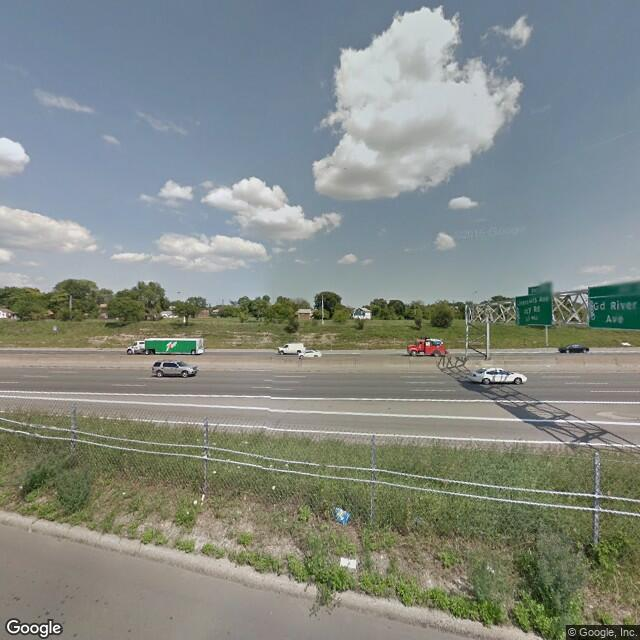litter: (330, 506, 351, 525), (338, 554, 361, 570), (268, 483, 278, 492), (194, 498, 210, 501), (199, 492, 204, 501)
